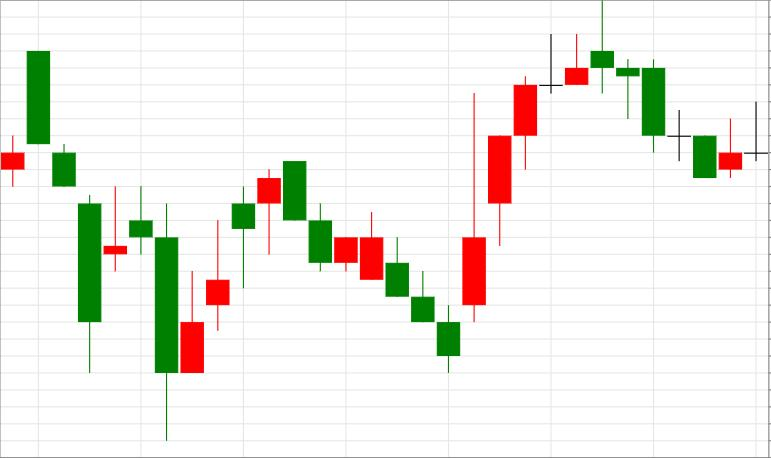three_white_soldiers_rise: (284, 76, 536, 374)
